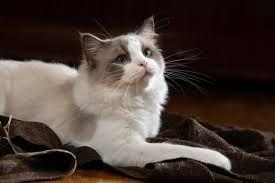ragdoll: (80, 3, 171, 115)
